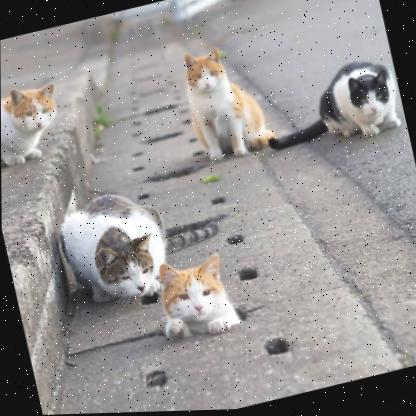cat: (52, 183, 171, 314), (178, 41, 253, 161), (315, 51, 402, 145), (152, 250, 236, 342), (1, 80, 68, 170)
